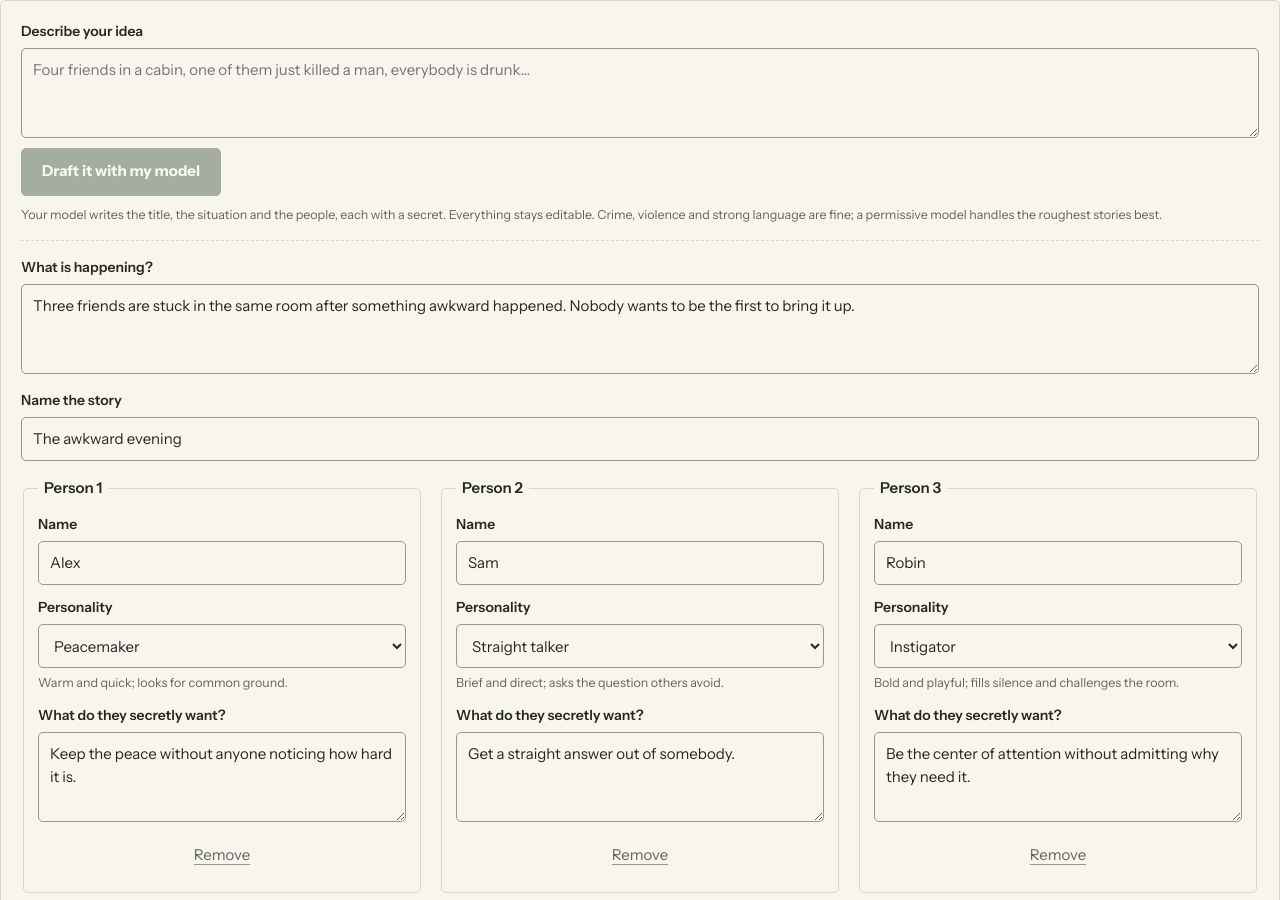
Test: drafting a story from an idea › sends the idea with the pasted key, then fills the form and reports files for the new cast
Replace the text in the text box labelled "Describe your idea" with "a killing in a snowed-in cabin". click: (640, 93)
box: [21,48,1259,138]
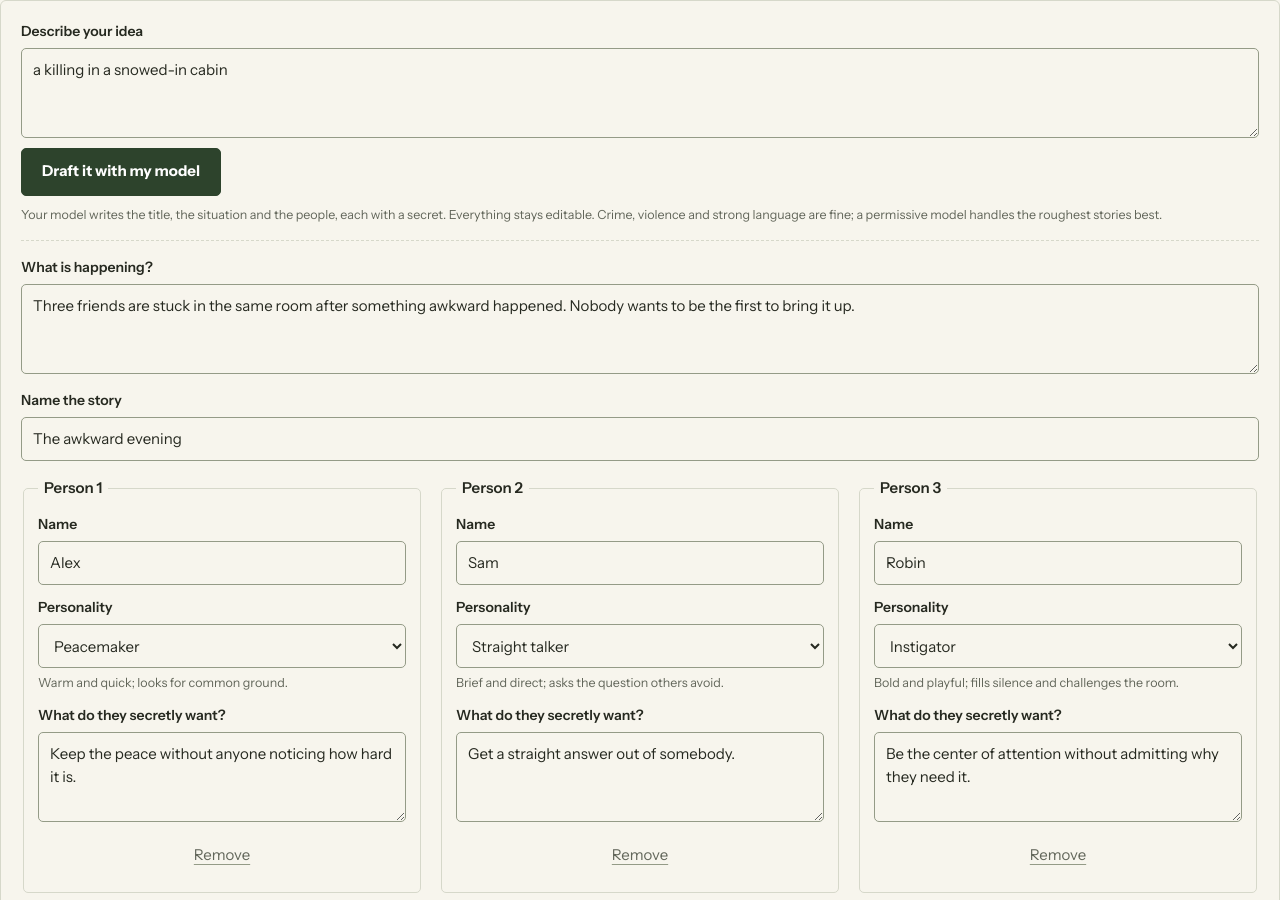
Click the button "Draft it with my model". click: (121, 172)
box: [21,148,221,196]
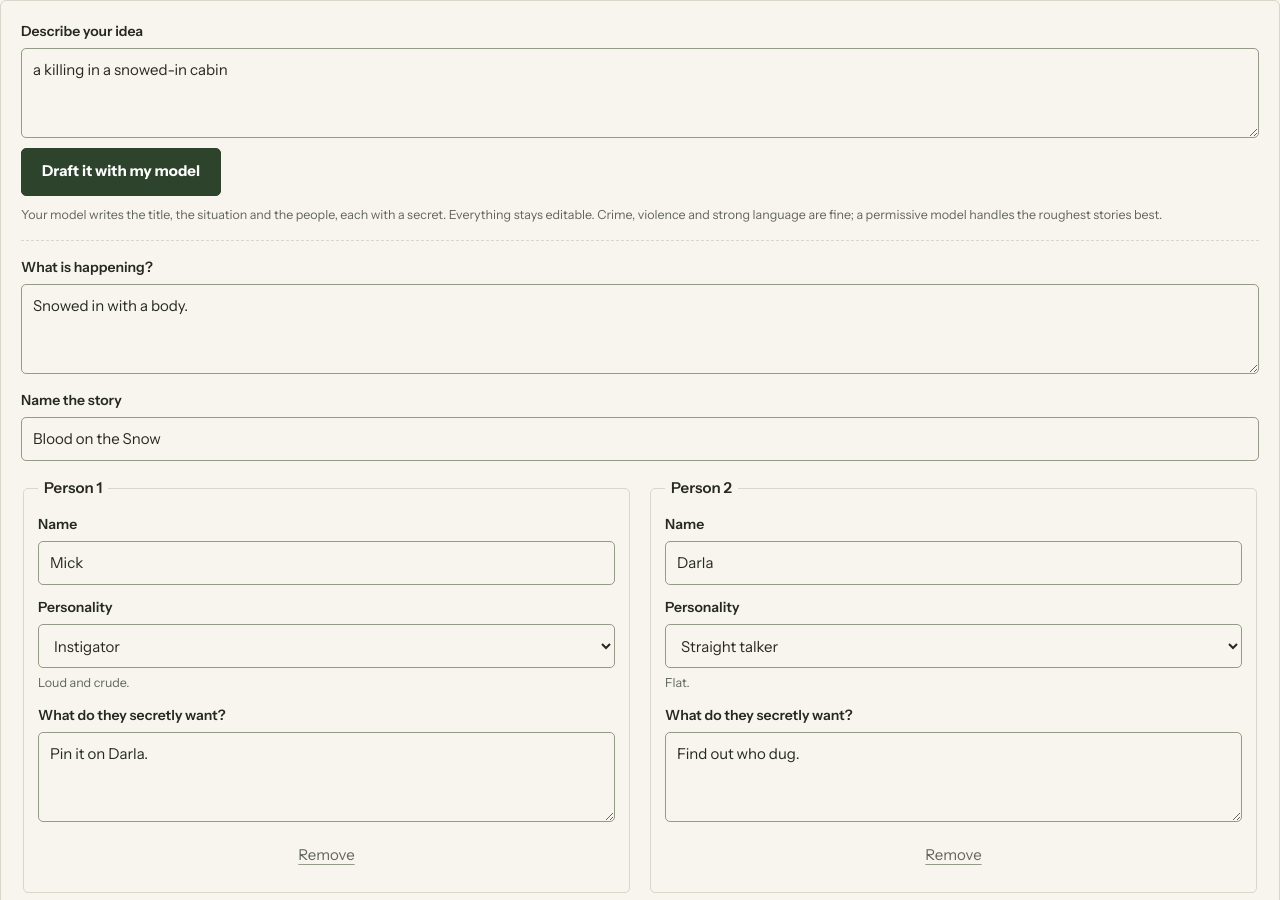
Expected: the field labelled "Name the story" holds "Blood on the Snow", [21,417,1259,461]
